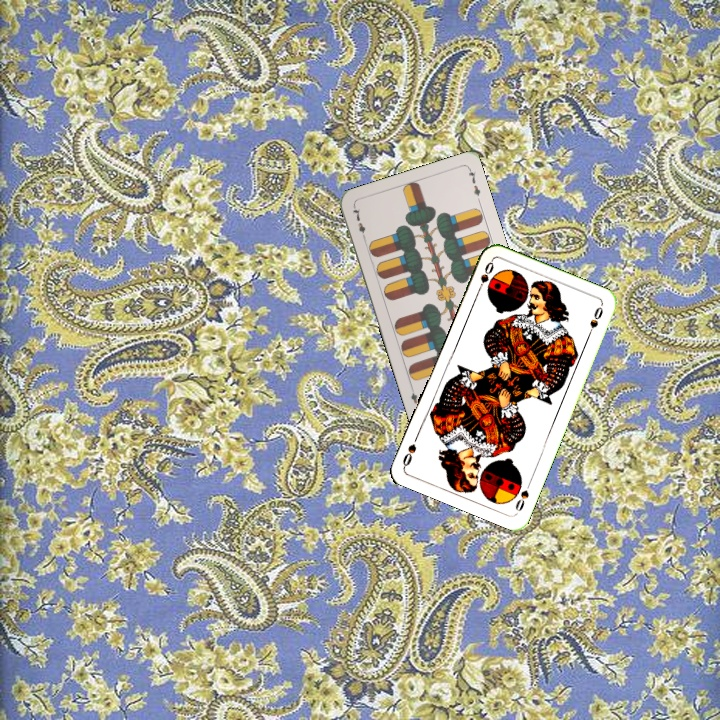E7: (348, 203, 368, 242)
SO: (473, 257, 496, 296), (511, 477, 534, 515)
